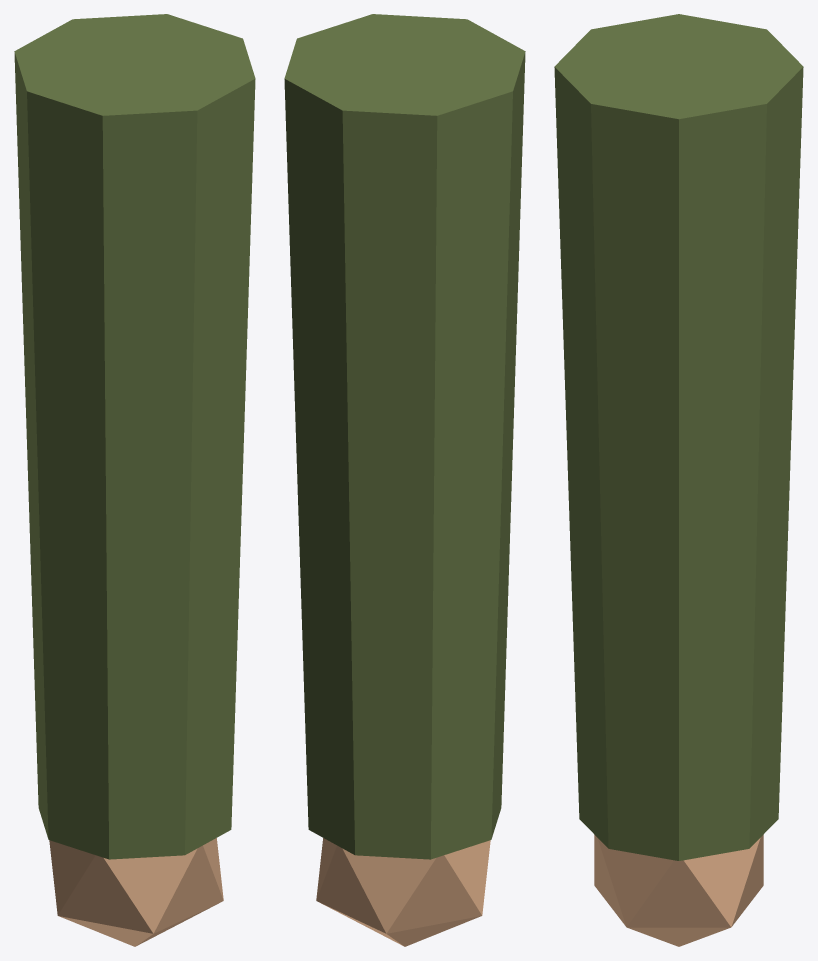
The model's file is insan_k1k_kol.glb.
3 views of the same model, side by side, from view 1: azimuth 30°, elevation 25°; view 2: azimuth 150°, elevation 25°; view 3: azimuth 270°, elevation 25° (orthographic).
Parts seen in each view (by area): view 1: Cone; view 2: Cone; view 3: Cone.
Boxes of the visible parts, <box> form: Cone: <box>14,14,255,946</box>; Cone: <box>284,14,525,946</box>; Cone: <box>554,14,803,946</box>.
Bounding box in the file's own units: 0.03 × 0.117 × 0.03.
